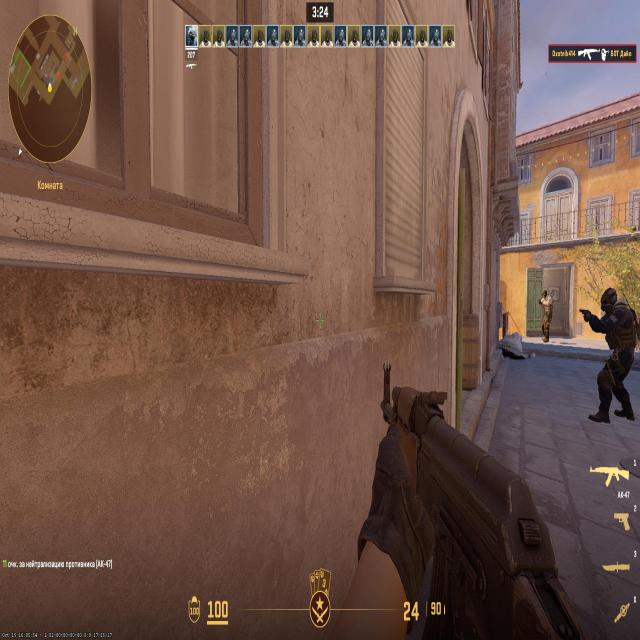CT: (603, 285, 631, 400)
CT_heat: (606, 299, 620, 316)
T: (541, 289, 549, 336)
T_heat: (542, 292, 548, 304)
